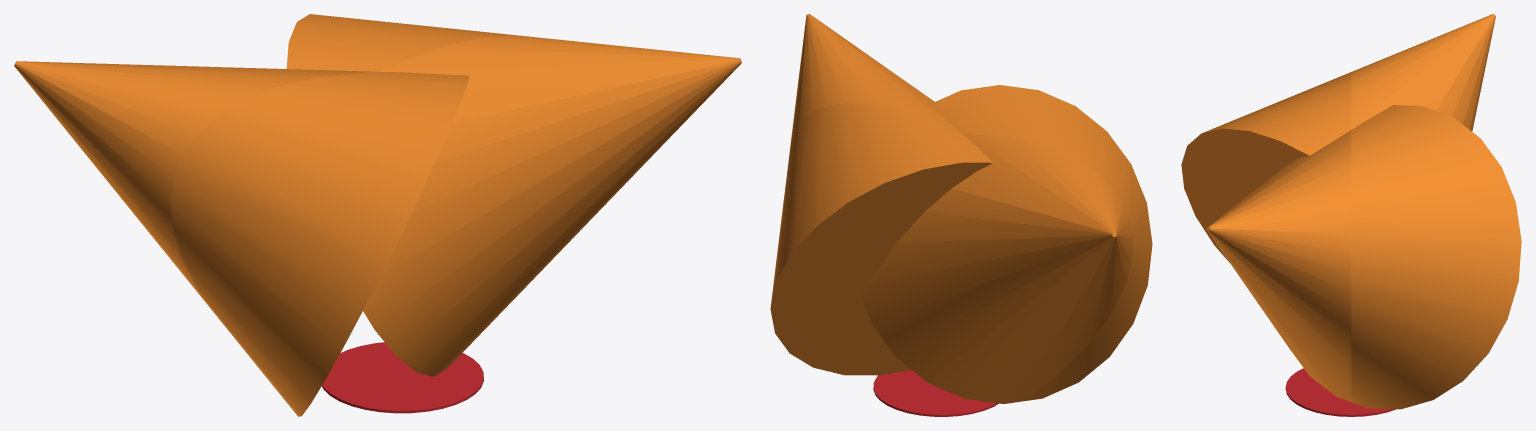
Rendered from fire_and_gas_detection_system_pressure.glb.
The picture shows the model from 3 angles, left to right: view 1: azimuth 30°, elevation 25°; view 2: azimuth 150°, elevation 25°; view 3: azimuth 270°, elevation 25°; orthographic projection. The views are drawn at different scales.
Visible parts, largest first — view 1: pressure__front, pressure__back; view 2: pressure__back, pressure__front; view 3: pressure__back, pressure__front.
Part boxes in pixels (x1,y1,x2,y2): pressure__front: [170, 35, 741, 416]; pressure__back: [14, 14, 513, 395]; pressure__back: [770, 102, 1133, 416]; pressure__front: [789, 14, 1152, 401]; pressure__back: [1351, 14, 1521, 416]; pressure__front: [1181, 72, 1351, 416].
Bounding box in the file's own units: 4.63 × 2.61 × 3.1.
